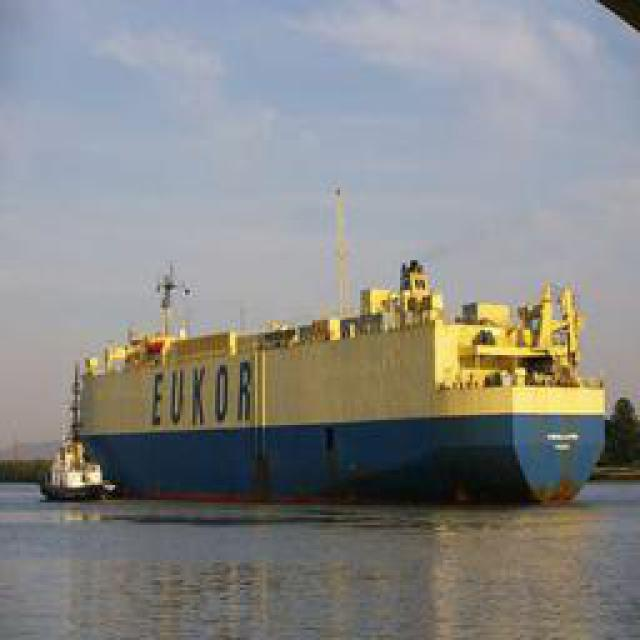Ship: (49, 255, 604, 508), (35, 432, 121, 511)
